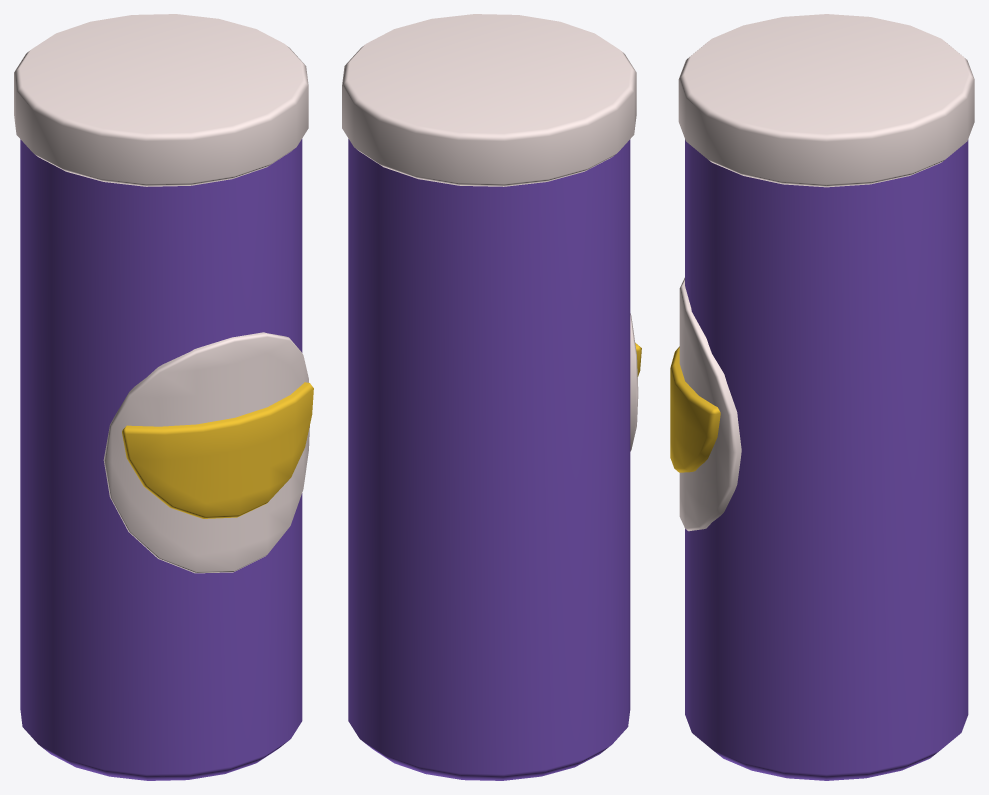
File: Chips_2.fbx
3 renders of one model, left to right at view 1: azimuth 30°, elevation 25°; view 2: azimuth 150°, elevation 25°; view 3: azimuth 270°, elevation 25°, orthographic.
Visible parts, largest first — view 1: Chips_2; view 2: Chips_2; view 3: Chips_2.
Part boxes in pixels (x1,y1,x2,y2): Chips_2: (14,14,313,780); Chips_2: (342,14,641,780); Chips_2: (670,14,974,780).
Bounding box in the file's own units: 13.68 × 33.31 × 14.07.
